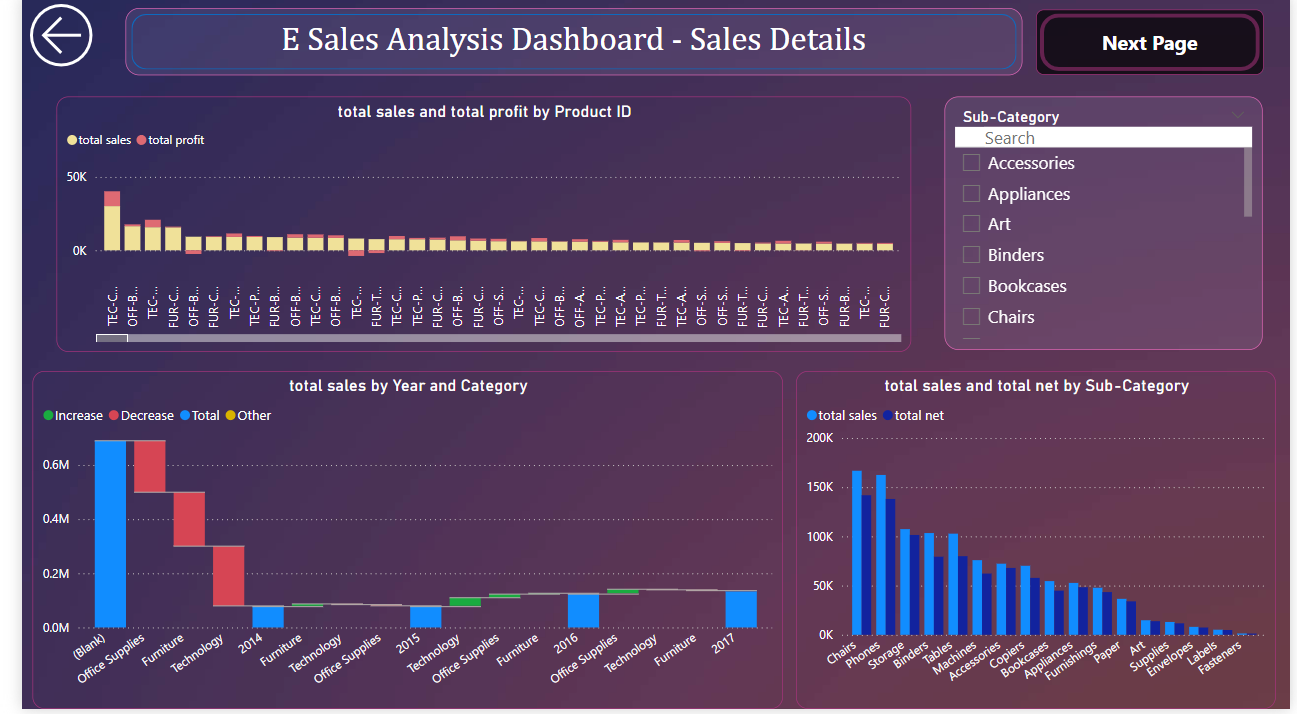

Layout of this report page (visuals, bound fields, positions):
{"tool":"powerbi","page":{"name":"Page 4","canvas":[1280,720],"ordinal":2},"visuals":[{"type":"shape","box":[103.6,12.2,843.2,67],"z":0},{"type":"waterfallChart","fields":{"Y":["measure.total sales"],"Category":["Orders.Order Date.Variation.Date Hierarchy.Year"],"Breakdown":["Product.Category"]},"box":[10.5,378.9,757.9,341.1],"z":1000},{"type":"clusteredColumnChart","fields":{"Category":["Product.Sub-Category"],"Y":["measure.total sales","measure.total net"]},"box":[781.9,379.4,484.9,341.4],"z":2000},{"type":"columnChart","fields":{"Y":["measure.total sales","measure.total profit"],"Category":["Product.Product ID"]},"box":[34.5,101.6,863.5,258],"z":3000},{"type":"slicer","fields":{"Values":["Product.Sub-Category"]},"box":[932.1,101.8,321.3,256.1],"z":4000},{"type":"actionButton","box":[973.2,14.2,280.4,65],"z":5000},{"type":"actionButton","box":[0,0,99.6,79.2],"z":6000}]}

Visuals, with their boxes in screenshot pixels (x1, y1, x2, y2), scaled from the page's 1280x720 canvas onto the 1297x714 screenshot:
shape: {"left": 105, "top": 12, "right": 959, "bottom": 79}
waterfallChart - measure.total sales x Orders.Order Date.Variation.Date Hierarchy.Year: {"left": 11, "top": 376, "right": 779, "bottom": 713}
clusteredColumnChart - Product.Sub-Category x measure.total sales: {"left": 792, "top": 376, "right": 1284, "bottom": 713}
columnChart - measure.total sales x measure.total profit: {"left": 35, "top": 101, "right": 910, "bottom": 357}
slicer - Product.Sub-Category: {"left": 944, "top": 101, "right": 1270, "bottom": 355}
actionButton: {"left": 986, "top": 14, "right": 1270, "bottom": 79}
actionButton: {"left": 0, "top": 0, "right": 101, "bottom": 79}
